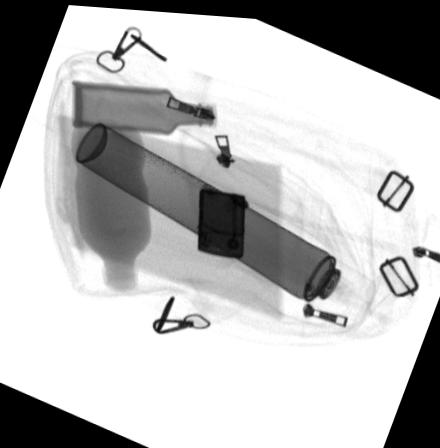Lighter: (197, 185, 245, 255)
Sprayer: (74, 119, 382, 321)
